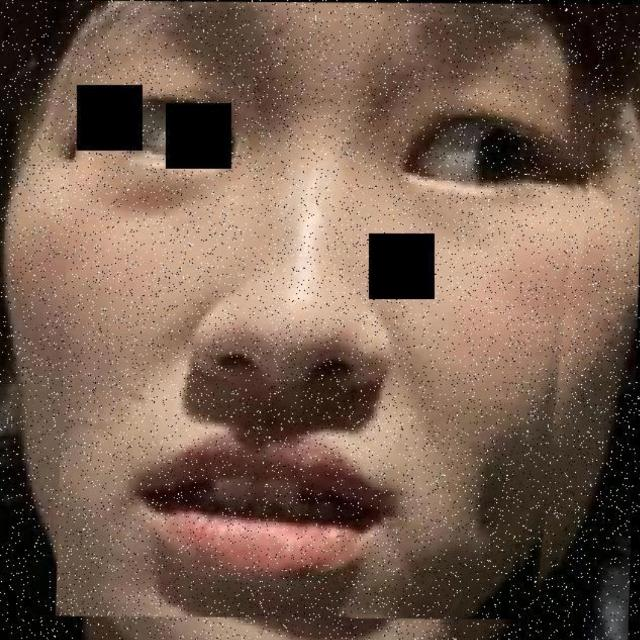Disgust: (53, 12, 578, 640)
